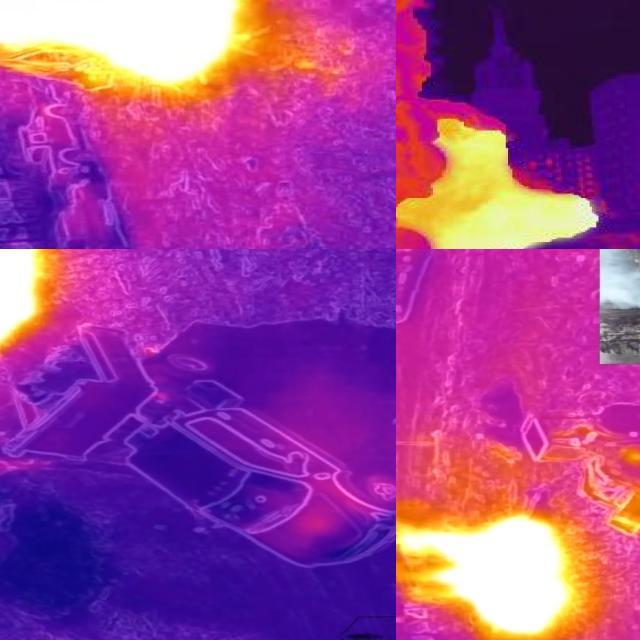fire: (397, 95, 619, 250), (397, 516, 577, 638), (1, 1, 248, 88), (1, 252, 52, 348)
